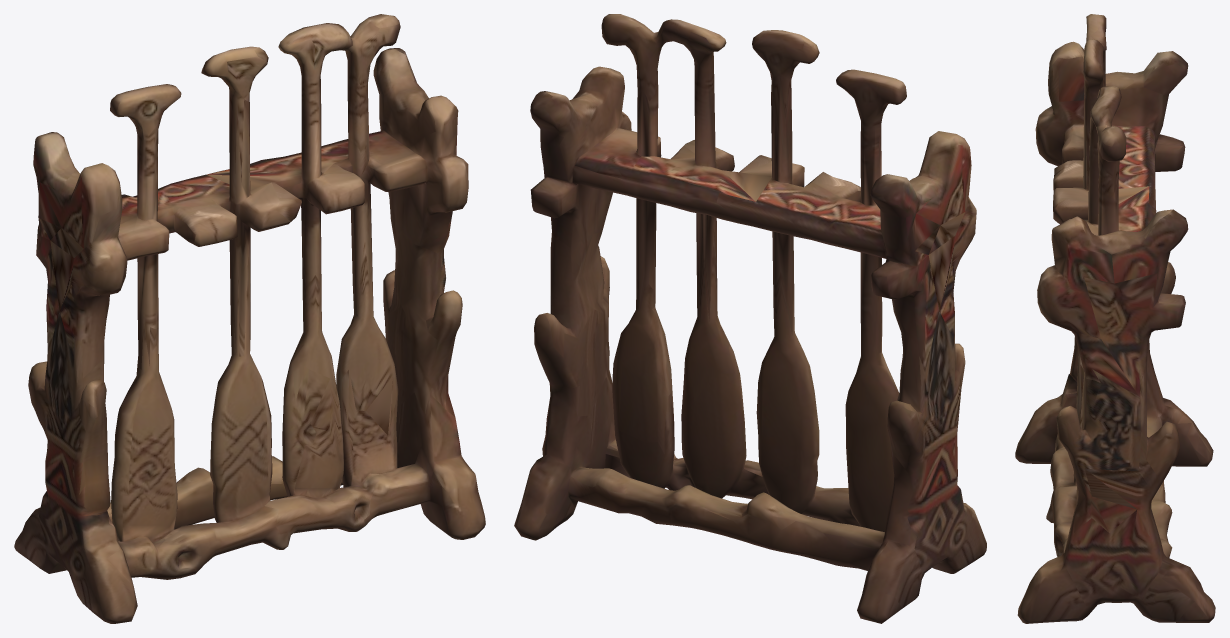
File: e04_suporte_remos.glb
3 renders of one model, left to right at view 1: azimuth 30°, elevation 25°; view 2: azimuth 150°, elevation 25°; view 3: azimuth 270°, elevation 25°, orthographic. The views are drawn at different scales.
Visible parts, largest first — view 1: e04_suporte_remos; view 2: e04_suporte_remos; view 3: e04_suporte_remos.
Boxes of the visible parts, box(x1,y1,x2,y2) form: e04_suporte_remos: box(14, 14, 485, 623); e04_suporte_remos: box(514, 14, 986, 623); e04_suporte_remos: box(1015, 14, 1215, 623).
Bounding box in the file's own units: 0.7706 × 0.9841 × 0.3697.
1 material, 1 textured.
